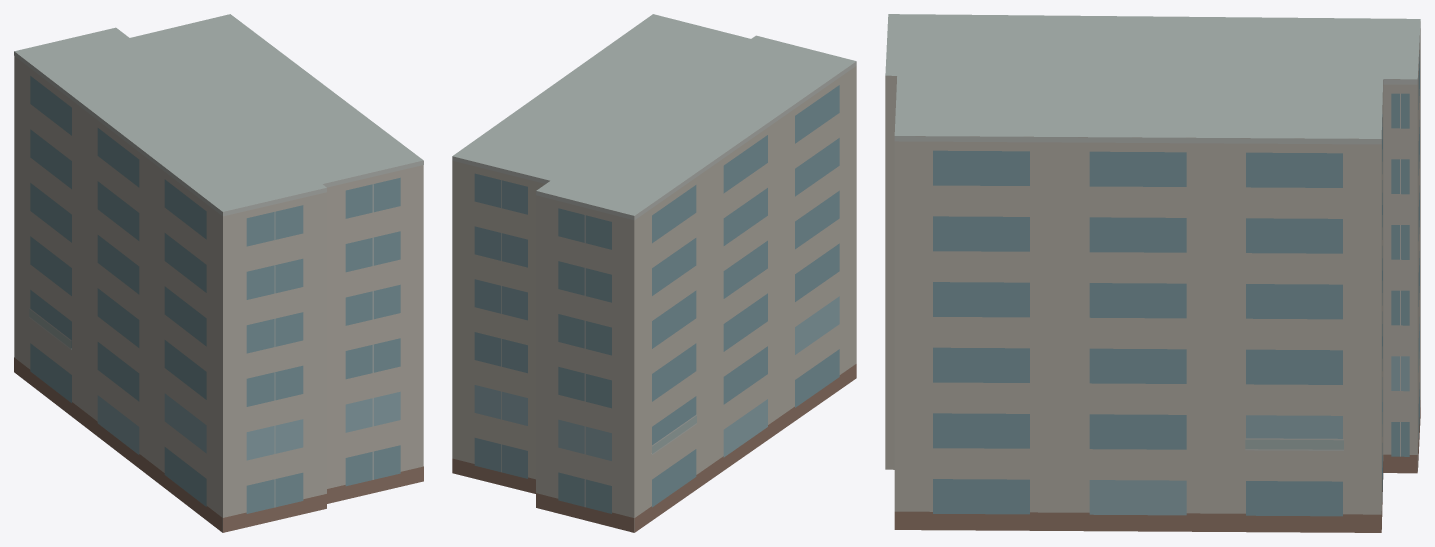
The model's file is survey-upis-32607653.glb.
3 renders of one model, left to right at view 1: azimuth 30°, elevation 25°; view 2: azimuth 150°, elevation 25°; view 3: azimuth 270°, elevation 25°, orthographic. The views are drawn at different scales.
Visible parts, largest first — view 1: survey-upis-32607653.tmp; view 2: survey-upis-32607653.tmp; view 3: survey-upis-32607653.tmp.
Boxes of the visible parts, box(x1,y1,x2,y2) form: survey-upis-32607653.tmp: box(14, 14, 423, 532); survey-upis-32607653.tmp: box(452, 14, 856, 532); survey-upis-32607653.tmp: box(885, 14, 1420, 532).
Size of the model in its own units: 11.85 by 17.4 by 21.44.
